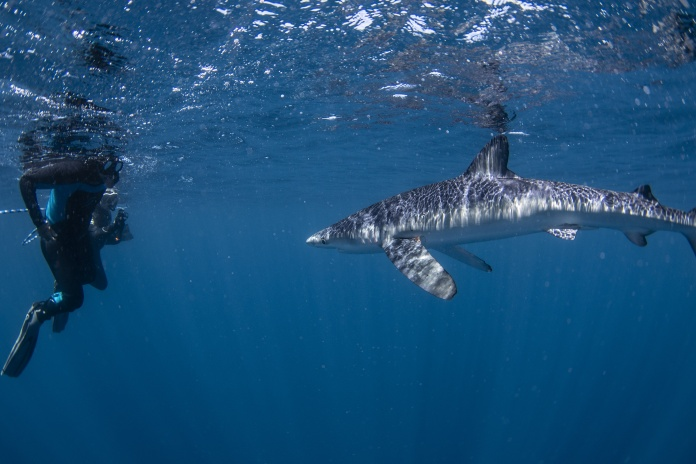Azul: (300, 117, 696, 299)
